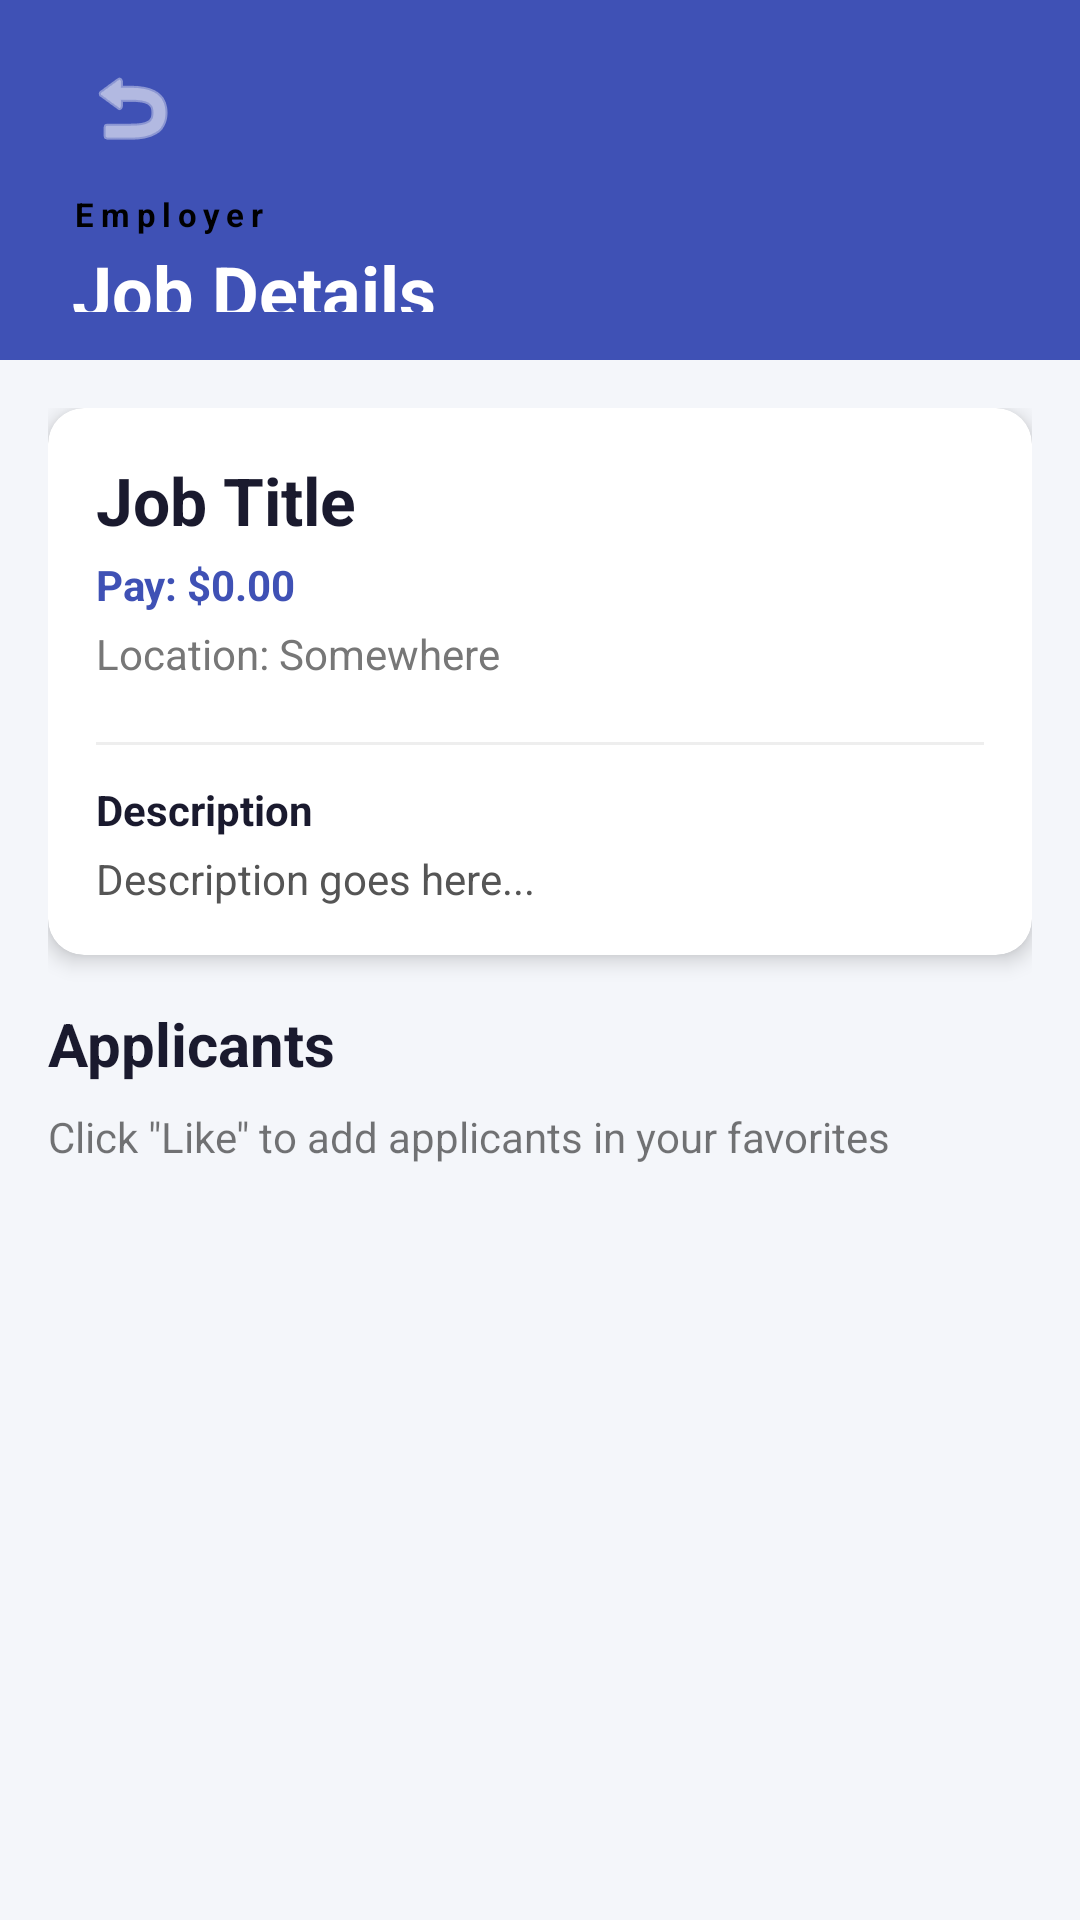

Screen size 1080w x 1920h. Icon name, then its center in pixels as point (x, y):
Back: point (133, 108)
